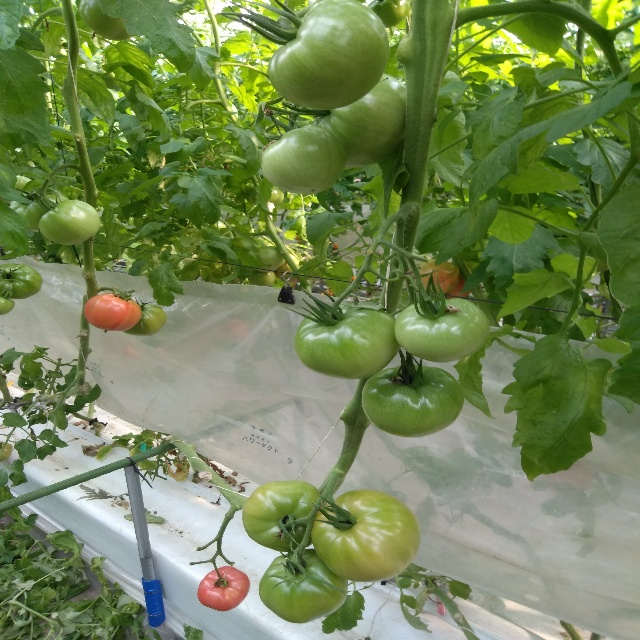b_fully_ripened: (197, 565, 251, 611)
b_green: (269, 0, 391, 111), (310, 489, 420, 583), (309, 73, 408, 167), (295, 304, 401, 380), (361, 364, 465, 437), (258, 548, 348, 624), (393, 297, 492, 363), (241, 479, 328, 552), (261, 122, 347, 194), (40, 199, 102, 245), (10, 188, 70, 231), (78, 0, 133, 41), (0, 263, 42, 300), (123, 303, 167, 337), (367, 0, 411, 28), (254, 245, 286, 272), (248, 268, 276, 286), (0, 296, 15, 315), (0, 441, 12, 462)
b_half_ripened: (84, 293, 142, 332), (410, 259, 460, 294)
